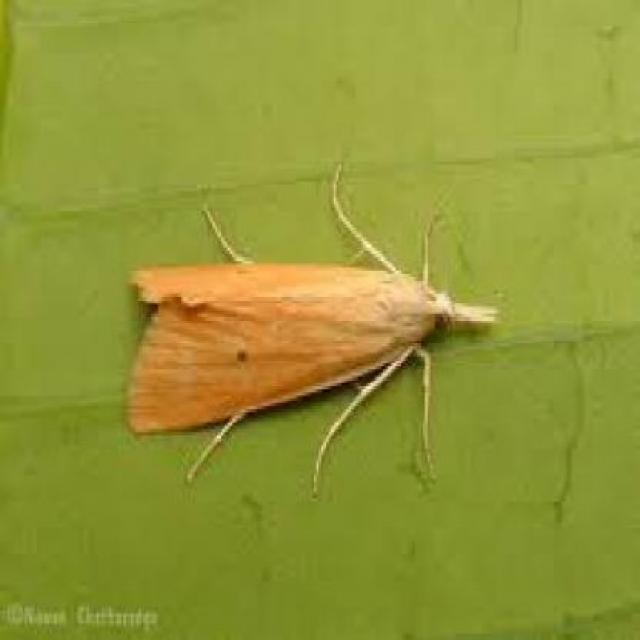stem-borer: (123, 245, 500, 449)
